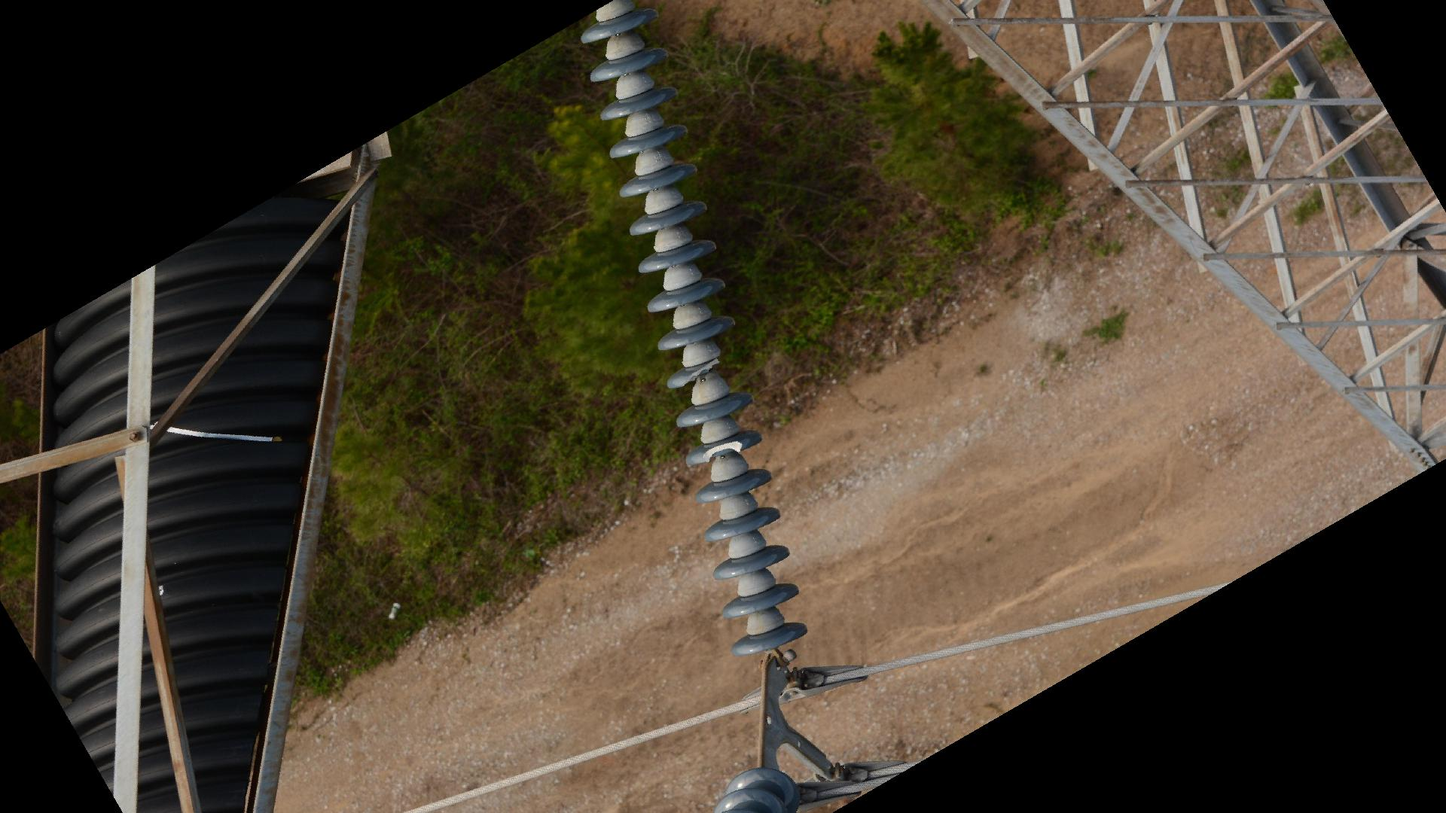insulator: (575, 1, 815, 664), (705, 763, 804, 813)
insulator_breakage: (678, 355, 721, 391), (700, 437, 746, 465)
